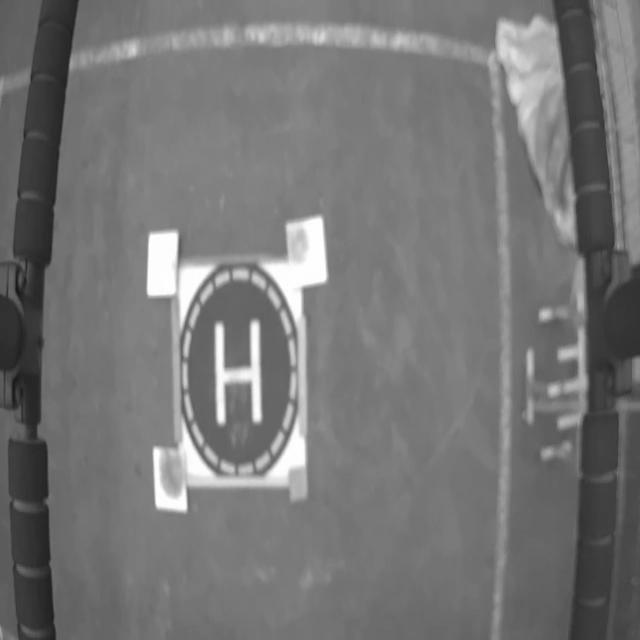Helipad: (214, 320, 262, 429)
